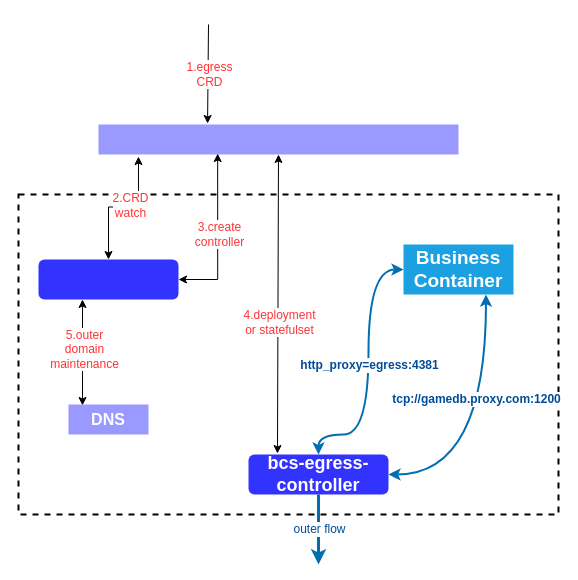
This 578x580 diagram has some shape labels left out. The box of each missing label's shape, as (x1, y1, x2, y2) in pixels:
bcs-egress-operator: (38, 259, 178, 299)
kube-apiserver: (98, 124, 458, 154)
